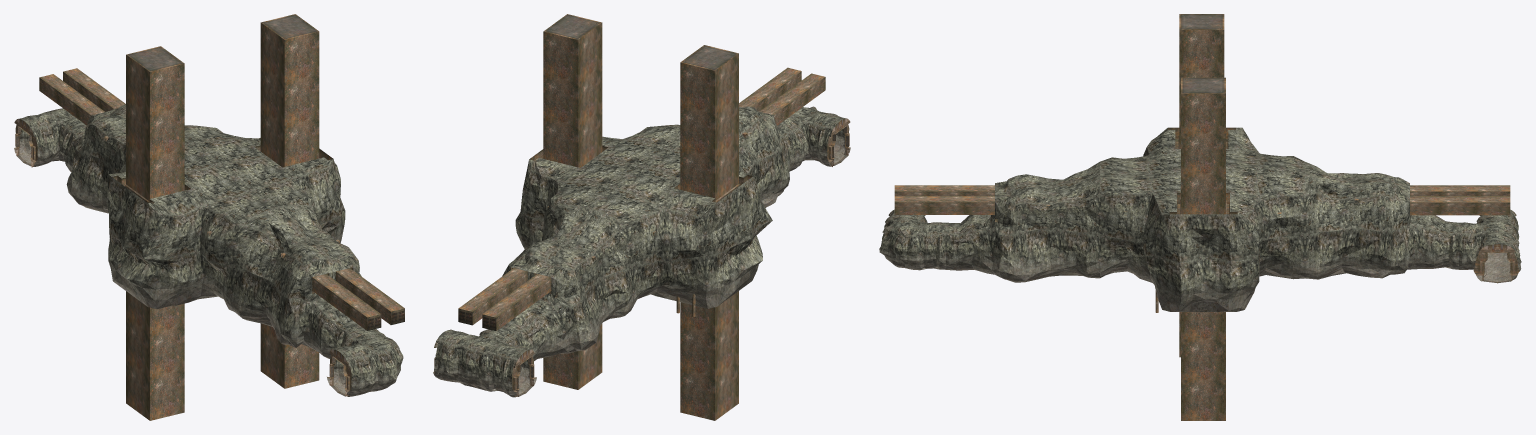
File: poi_all_bunker_allum_mine_r40_largeroom40_mesh_r40.fbx
3 renders of one model, left to right at view 1: azimuth 30°, elevation 25°; view 2: azimuth 150°, elevation 25°; view 3: azimuth 270°, elevation 25°, orthographic. The views are drawn at different scales.
Parts seen in each view (by area): view 1: mesh_node; view 2: mesh_node; view 3: mesh_node.
Boxes of the visible parts, left/top/right/bottom form: mesh_node: left=14, top=14, right=404, bottom=420; mesh_node: left=433, top=14, right=850, bottom=420; mesh_node: left=879, top=14, right=1521, bottom=420.
Size of the model in its own units: 37.15 by 56.6 by 100.
